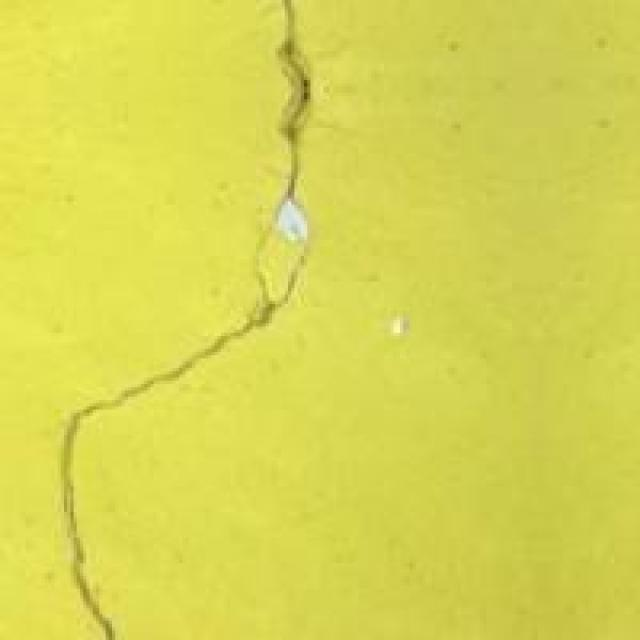Crack: (43, 8, 344, 638)
